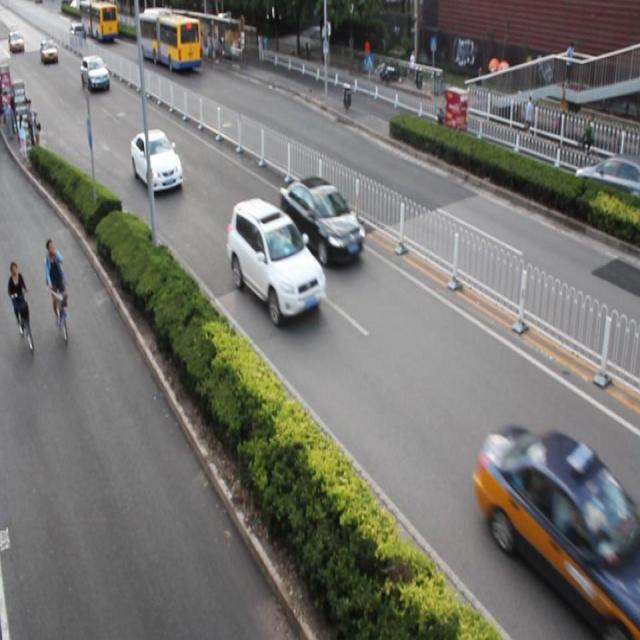car: (475, 425, 640, 632), (228, 198, 325, 322), (280, 174, 364, 270), (573, 151, 637, 221), (131, 130, 182, 195), (208, 29, 243, 61), (80, 55, 109, 93)
van: (137, 7, 200, 72)
